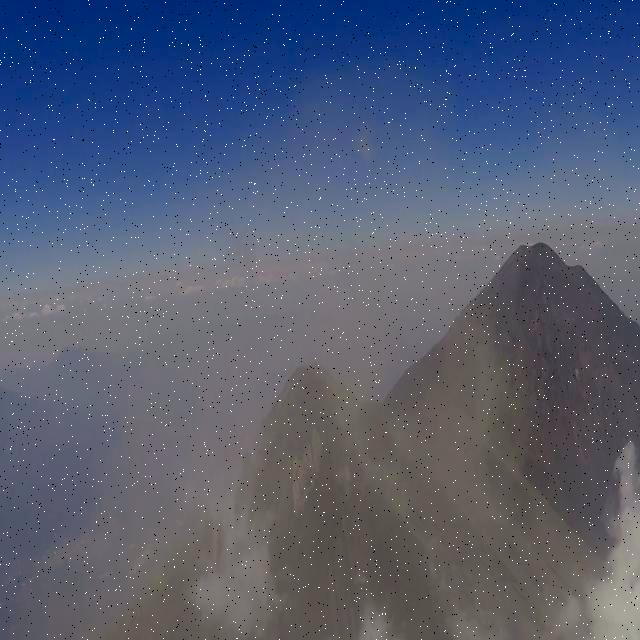Summit: (210, 359, 398, 534)
